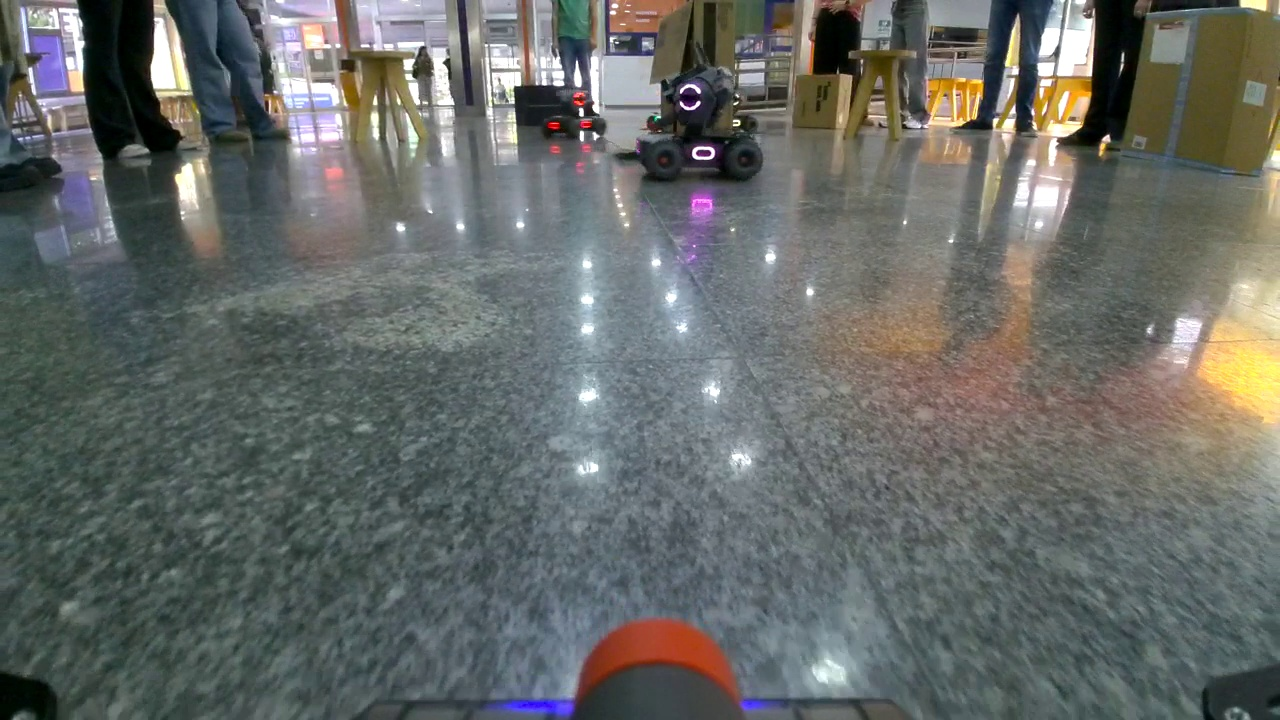robot: (637, 66, 762, 177)
